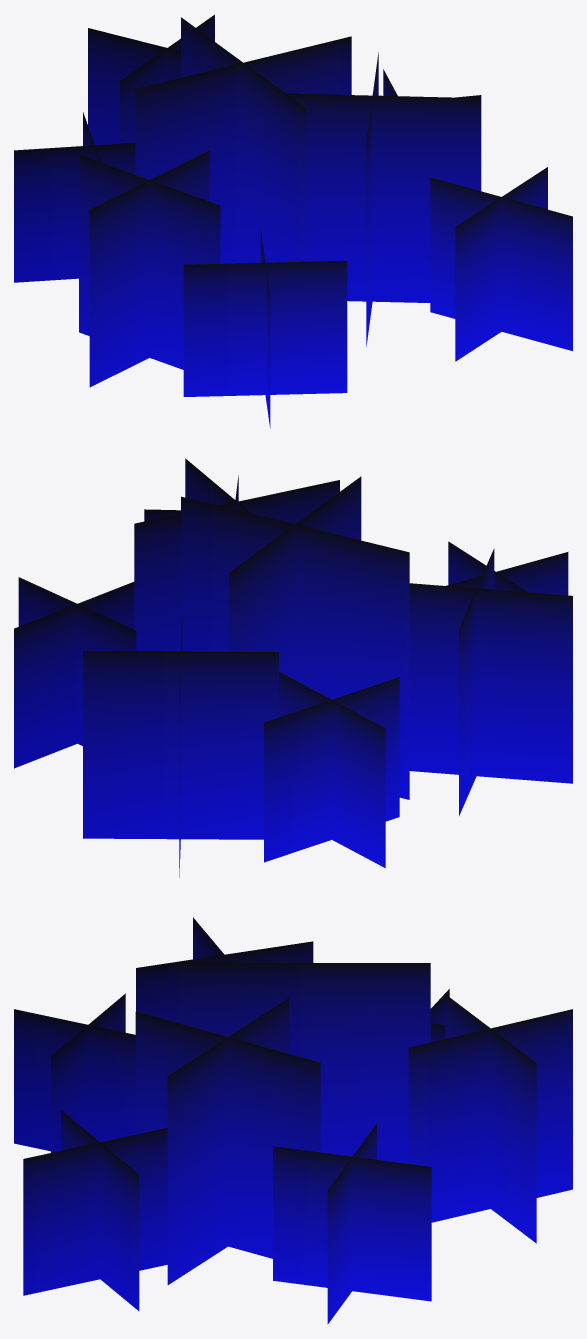
The model's file is GrassMeshPatch_01.fbx.
3 renders of one model, top to bottom at view 1: azimuth 30°, elevation 25°; view 2: azimuth 150°, elevation 25°; view 3: azimuth 270°, elevation 25°, orthographic. The views are drawn at different scales.
Visible parts, largest first — view 1: GrassMeshPatch_01; view 2: GrassMeshPatch_01; view 3: GrassMeshPatch_01.
Part boxes in pixels (x1,y1,x2,y2): GrassMeshPatch_01: (14, 14, 572, 428); GrassMeshPatch_01: (14, 458, 572, 877); GrassMeshPatch_01: (14, 917, 572, 1324).
Size of the model in its own units: 134 by 65.74 by 140.
